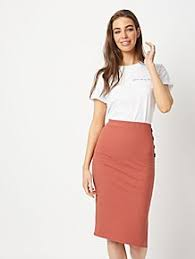C_skirt: (87, 117, 160, 251)
